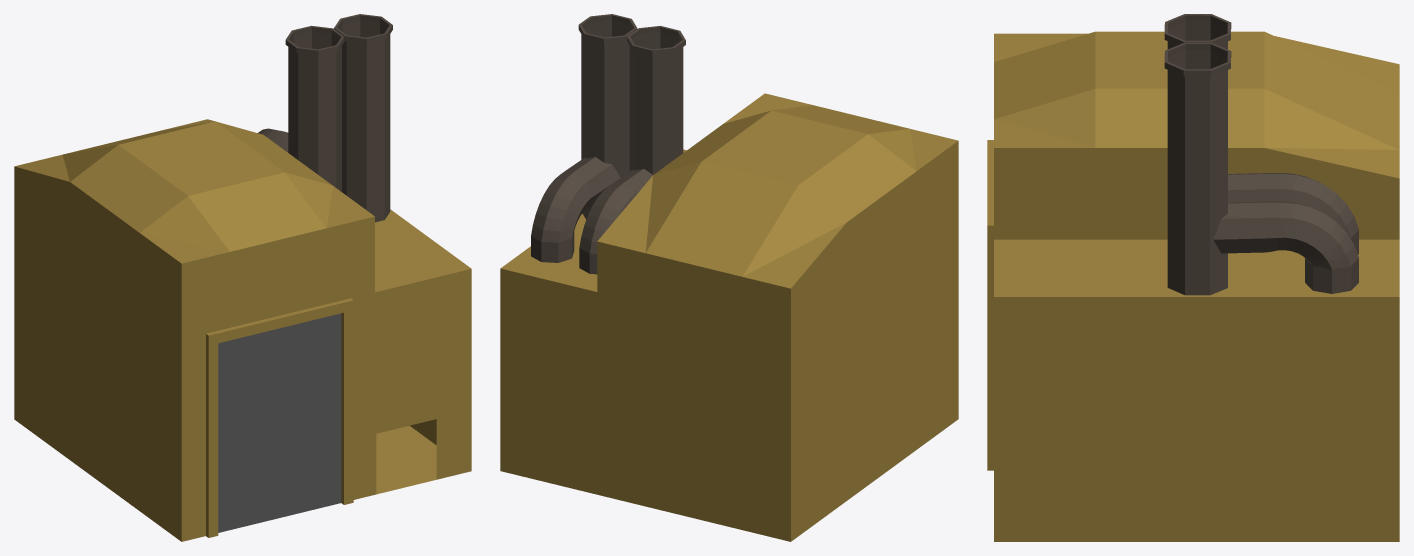
File: war_factory.obj
3 views of the same model, side by side, from view 1: azimuth 30°, elevation 25°; view 2: azimuth 150°, elevation 25°; view 3: azimuth 270°, elevation 25° (orthographic). The views are drawn at different scales.
Parts seen in each view (by area): view 1: warfactory_building_Cube, smoke_stacks_Cube.001, outlets_pipes_Cube.002; view 2: warfactory_building_Cube, outlets_pipes_Cube.002, smoke_stacks_Cube.001; view 3: warfactory_building_Cube, outlets_pipes_Cube.002, smoke_stacks_Cube.001.
Boxes of the visible parts, x1,y1,x2,y2 form: warfactory_building_Cube: [14, 119, 471, 541]; smoke_stacks_Cube.001: [285, 14, 392, 221]; outlets_pipes_Cube.002: [258, 15, 392, 222]; warfactory_building_Cube: [500, 93, 958, 541]; outlets_pipes_Cube.002: [531, 14, 685, 274]; smoke_stacks_Cube.001: [579, 14, 685, 219]; warfactory_building_Cube: [987, 31, 1399, 541]; outlets_pipes_Cube.002: [1164, 14, 1358, 295]; smoke_stacks_Cube.001: [1164, 14, 1231, 295].
Bounding box in the file's own units: 12 × 15.38 × 12.2.
